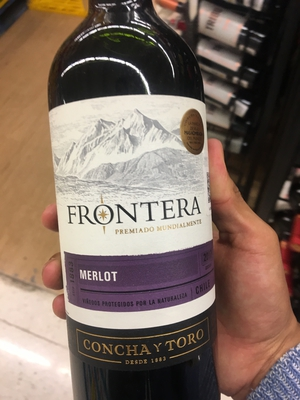frontera merlot: (45, 2, 247, 400)
